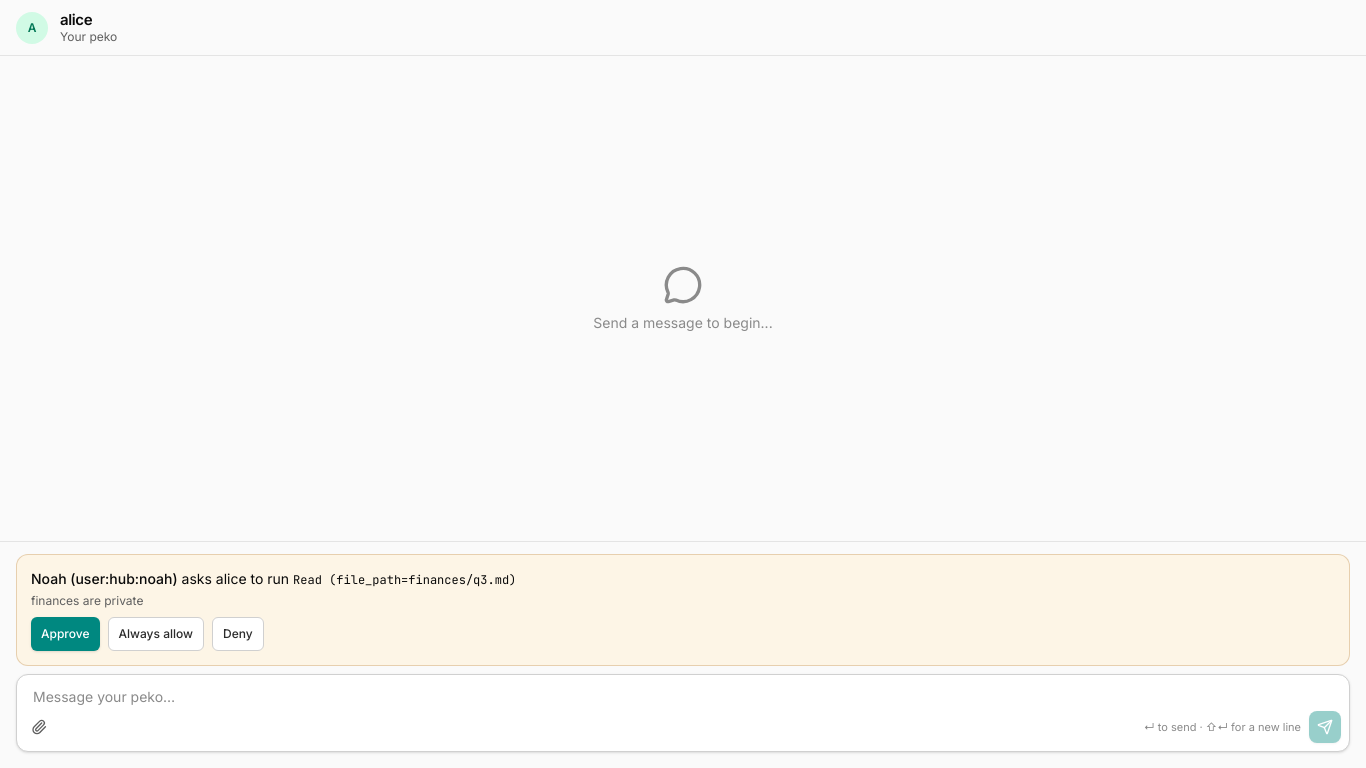
Test: Chat ToS gate › lets you decide your peko's requests on another computer, and shows none for others' pekos
The image size is (1366, 768).
Expected: the element with test id "approval-cards" shows "Noah (user:hub:noah) asks alice to run Read (file_path=finances/q3.md)", [0, 541, 1365, 666]
Click the button "Deny": [238, 634] box [212, 617, 264, 651]
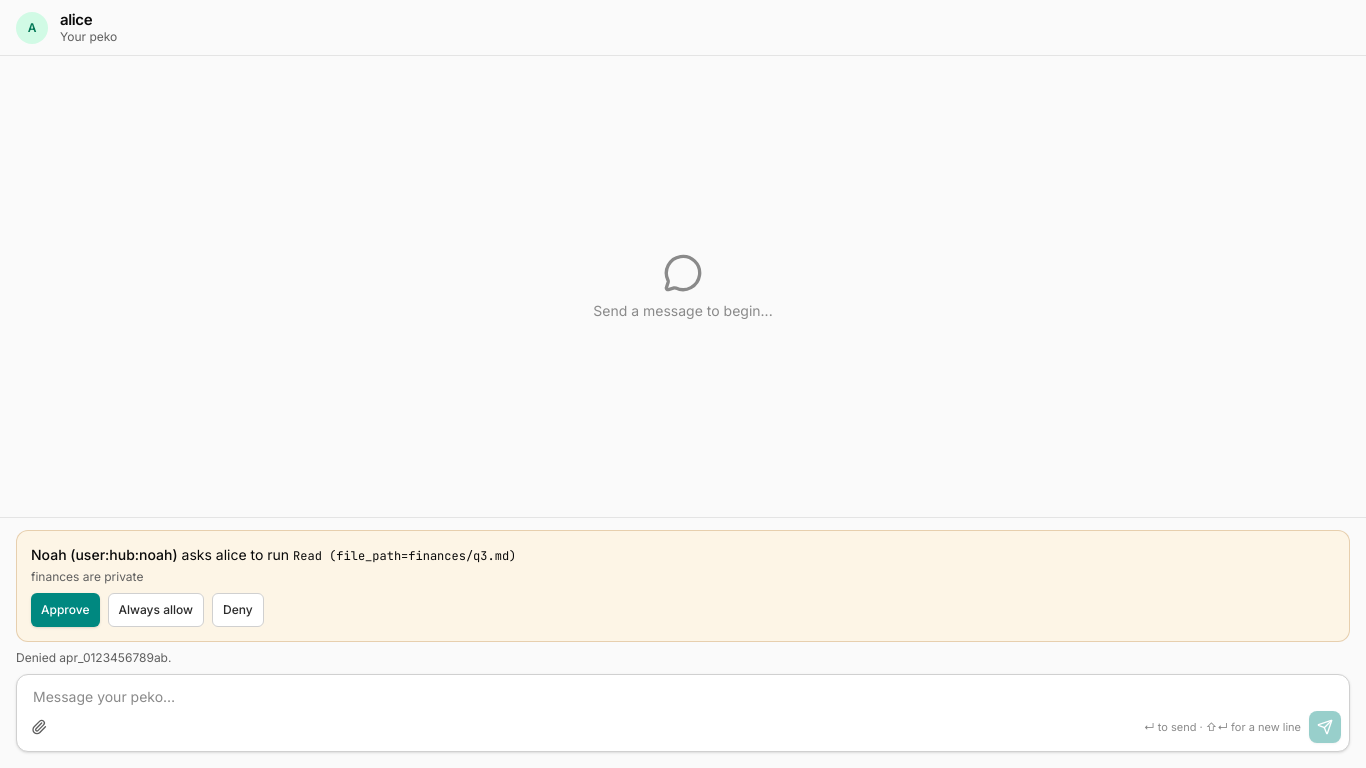
Expected: the text "Denied apr_0123456789ab." is shown, [16, 650, 171, 665]
